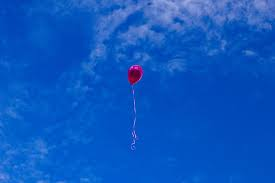Balloon: (128, 65, 143, 84)
